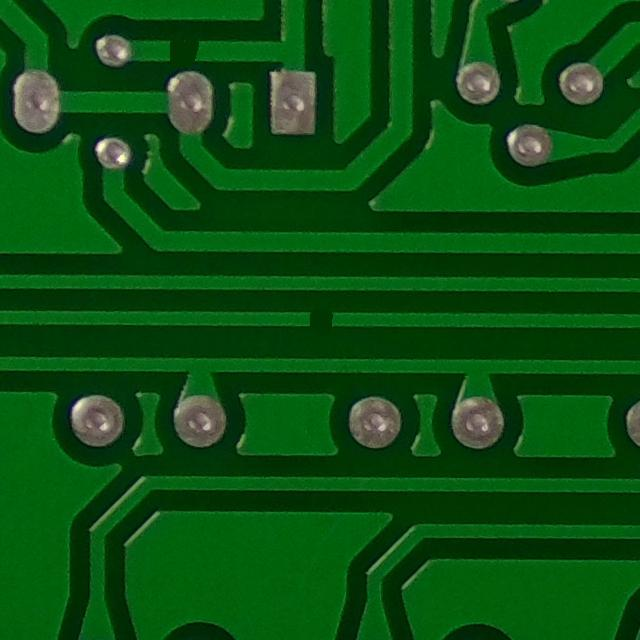open_circuit: (299, 297, 342, 343)
